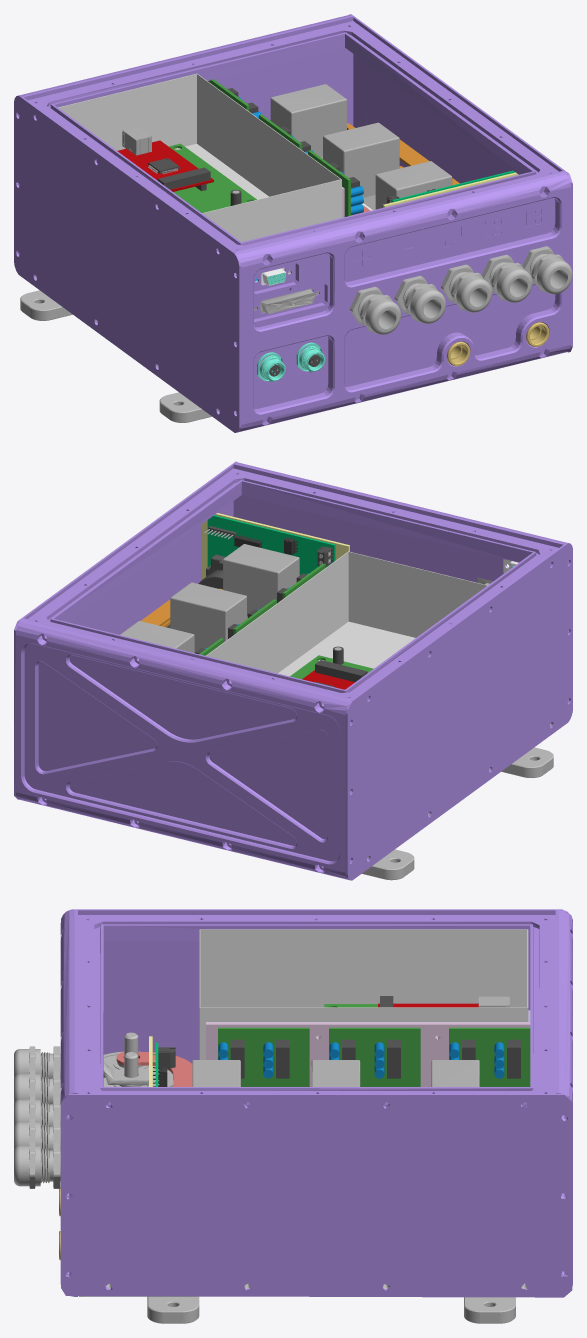
3 views of the same model, one above another, from view 1: azimuth 30°, elevation 25°; view 2: azimuth 150°, elevation 25°; view 3: azimuth 270°, elevation 25° (orthographic). The views are drawn at different scales.
Parts seen in each view (by area): view 1: Cube_90_, Cube_8_, Cube_84_, Cube_85_, Cube_7_, Cube_28_, inverterBoard, None__Part_93_, None__Part_94_, None__Part_92_, None__Part_25_, None__Part_27_ (+9 smaller); view 2: Cube_28_, Cube_8_, Cube_85_, Cube_84_, Cube_90_, Cube_7_, None__Part_93_, None__Part_92_, None__Part_38_, inverterBoard, None__Part_94_, None__Part_21_ (+3 smaller); view 3: Cube_7_, Cube_84_, Cube_85_, Cube_8_, Cube.001, Cube.000, None__Part_95_, Cube.006, Cube_28_, Cube_90_, None__Part_26_, None__Part_22_ (+12 smaller).
Boxes of the visible parts, x1=… form: Cube_90_: x1=234, y1=170, x2=570, y2=431; Cube_8_: x1=14, y1=95, x2=241, y2=432; Cube_84_: x1=58, y1=73, x2=341, y2=242; Cube_85_: x1=28, y1=21, x2=558, y2=252; Cube_7_: x1=349, y1=14, x2=572, y2=352; Cube_28_: x1=18, y1=15, x2=353, y2=255; inverterBoard: x1=117, y1=126, x2=256, y2=212; None__Part_93_: x1=323, y1=122, x2=399, y2=197; None__Part_94_: x1=270, y1=84, x2=346, y2=156; None__Part_92_: x1=375, y1=161, x2=452, y2=209; None__Part_25_: x1=441, y1=264, x2=492, y2=312; None__Part_27_: x1=394, y1=275, x2=445, y2=323; Cube_28_: x1=15, y1=618, x2=352, y2=879; Cube_8_: x1=345, y1=543, x2=572, y2=880; Cube_85_: x1=28, y1=468, x2=558, y2=700; Cube_84_: x1=206, y1=551, x2=487, y2=676; Cube_90_: x1=233, y1=462, x2=568, y2=702; Cube_7_: x1=14, y1=461, x2=237, y2=799; None__Part_93_: x1=170, y1=582, x2=246, y2=652; None__Part_92_: x1=223, y1=544, x2=299, y2=616; None__Part_38_: x1=207, y1=515, x2=335, y2=574; inverterBoard: x1=290, y1=646, x2=373, y2=689; None__Part_94_: x1=120, y1=621, x2=194, y2=652; None__Part_21_: x1=362, y1=849, x2=414, y2=880; Cube_7_: x1=61, y1=1093, x2=572, y2=1297; Cube_84_: x1=199, y1=929, x2=528, y2=1059; Cube_85_: x1=78, y1=915, x2=555, y2=1107; Cube_8_: x1=61, y1=909, x2=572, y2=1063; Cube.001: x1=218, y1=1027, x2=309, y2=1086; Cube.000: x1=329, y1=1027, x2=420, y2=1086; None__Part_95_: x1=206, y1=1022, x2=530, y2=1086; Cube.006: x1=449, y1=1027, x2=530, y2=1086; Cube_28_: x1=555, y1=910, x2=572, y2=1286; Cube_90_: x1=60, y1=910, x2=77, y2=1296; None__Part_26_: x1=14, y1=1143, x2=60, y2=1188; None__Part_22_: x1=147, y1=1296, x2=199, y2=1323.
Size of the model in its own units: 2.9 by 1.38 by 3.23.
